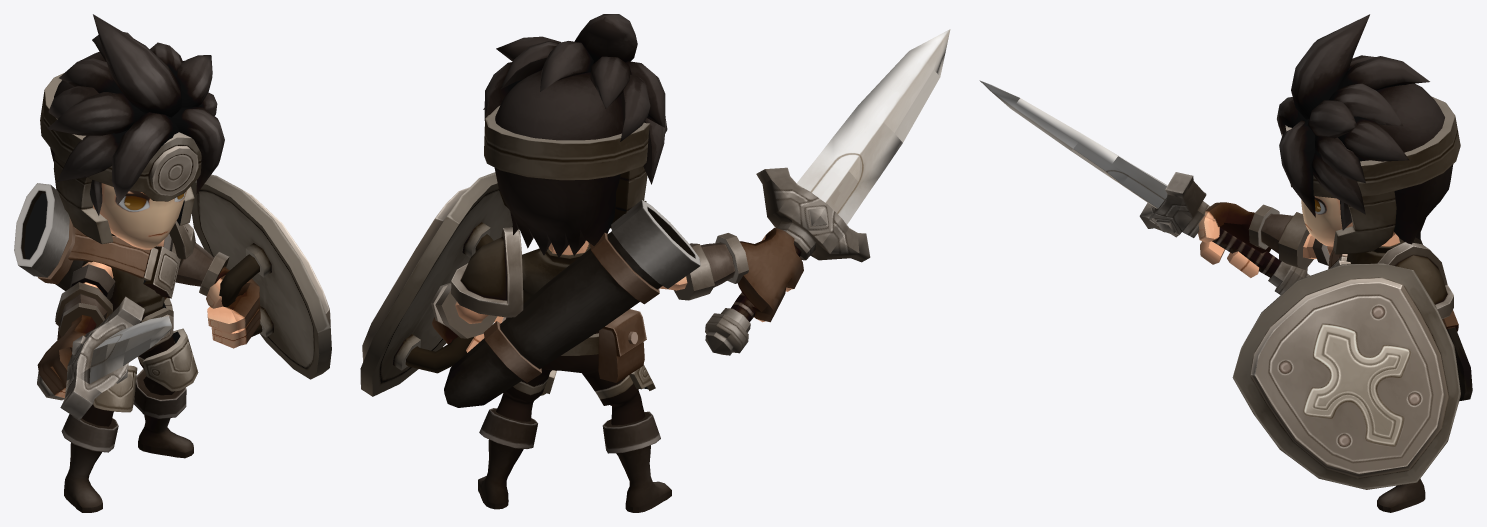
Rendered from Swordsman.fbx.
3 renders of one model, left to right at view 1: azimuth 30°, elevation 25°; view 2: azimuth 150°, elevation 25°; view 3: azimuth 270°, elevation 25°, orthographic. The views are drawn at different scales.
Visible parts, largest first — view 1: Object002, Line001, Weapon_Sword001; view 2: Object002, Weapon_Sword001, Line001; view 3: Object002, Line001, Weapon_Sword001.
Boxes of the visible parts, box(x1,y1,x2,y2) form: Object002: box(14, 14, 260, 512); Line001: box(191, 174, 331, 379); Weapon_Sword001: box(37, 296, 171, 420); Object002: box(431, 14, 803, 512); Weapon_Sword001: box(705, 29, 950, 355); Line001: box(360, 172, 519, 396); Object002: box(1198, 14, 1472, 512); Line001: box(1232, 263, 1460, 489); Weapon_Sword001: box(979, 80, 1310, 294).
Bounding box in the file's own units: 86.1 × 108 × 108.
Materials: 1 (1 with a texture image).
